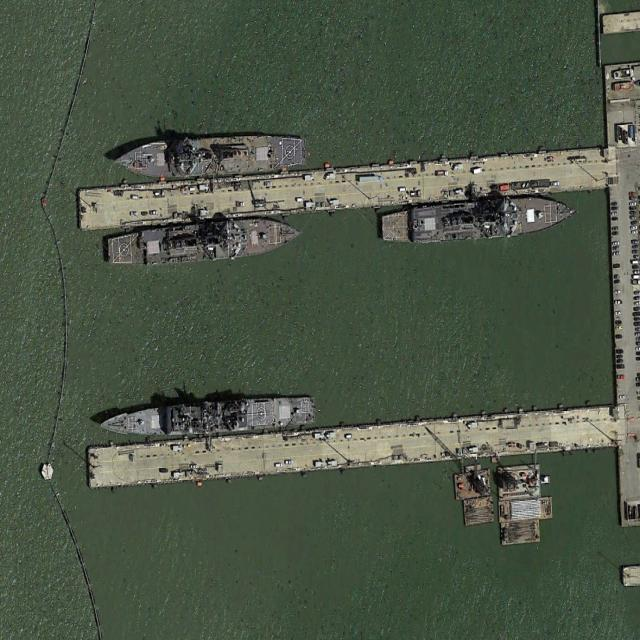Cruiser: (98, 393, 316, 442)
Destroyer: (105, 211, 304, 270), (110, 130, 308, 182), (380, 193, 577, 245)
